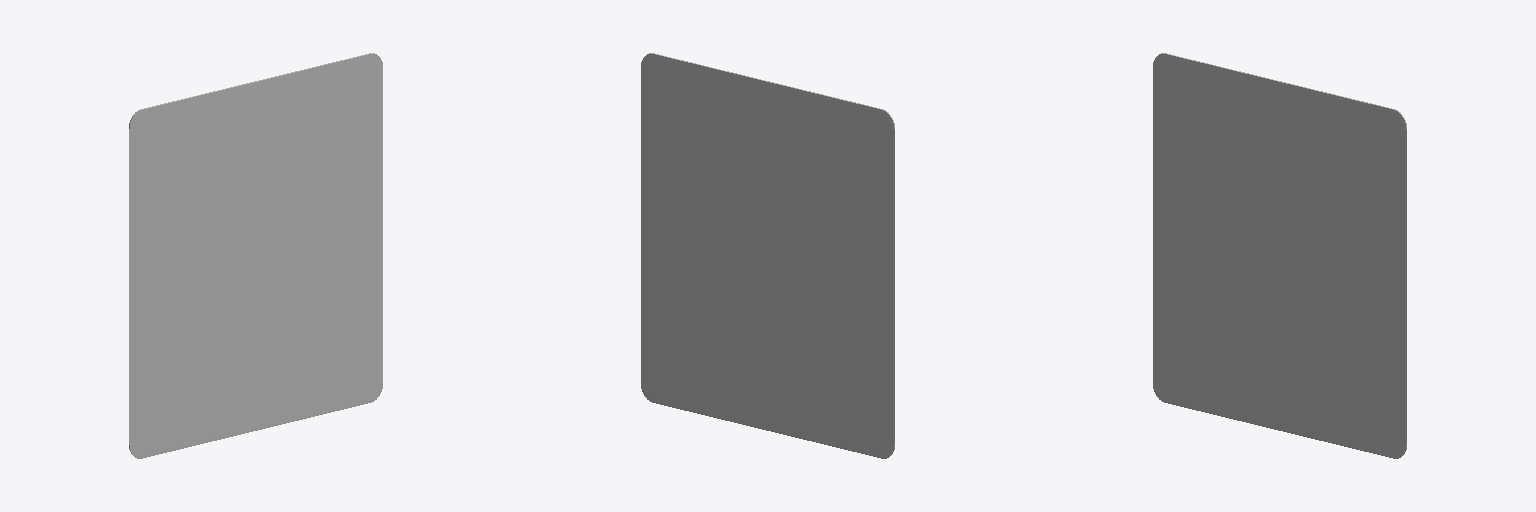
The model's file is screen.obj.
The picture shows the model from 3 angles: view 1: azimuth 30°, elevation 25°; view 2: azimuth 150°, elevation 25°; view 3: azimuth 330°, elevation 25°; orthographic projection.
Visible parts, largest first — view 1: obj_0; view 2: obj_0; view 3: obj_0.
Part boxes in pixels (x1,y1,x2,y2): obj_0: (129, 53, 382, 458); obj_0: (641, 53, 894, 458); obj_0: (1153, 53, 1406, 458).
Bounding box in the file's own units: 8.3 × 10.9 × 0.0516.